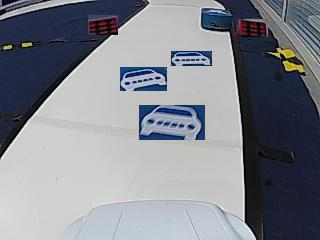prop: (201, 8, 232, 31)
